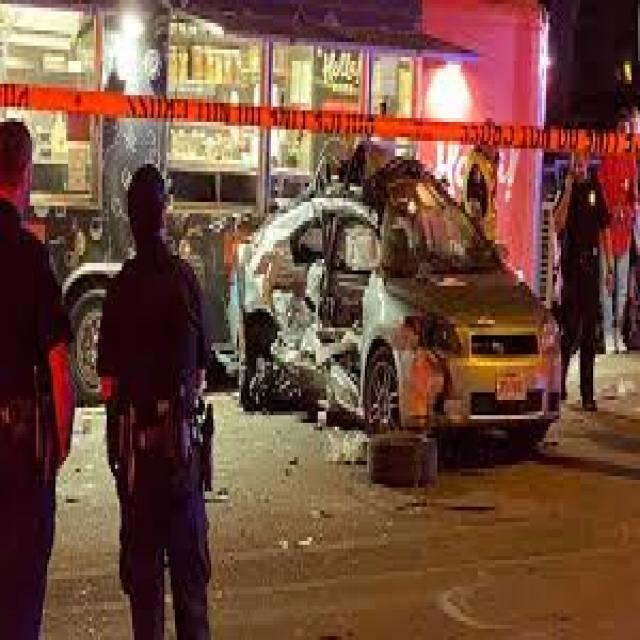accident: (230, 161, 550, 491)
